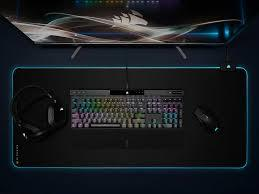keyboard: (67, 86, 184, 132)
